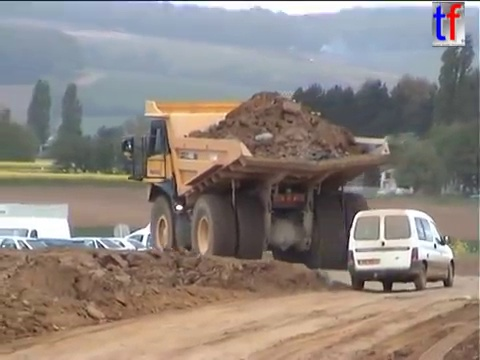truck: (118, 97, 393, 274)
